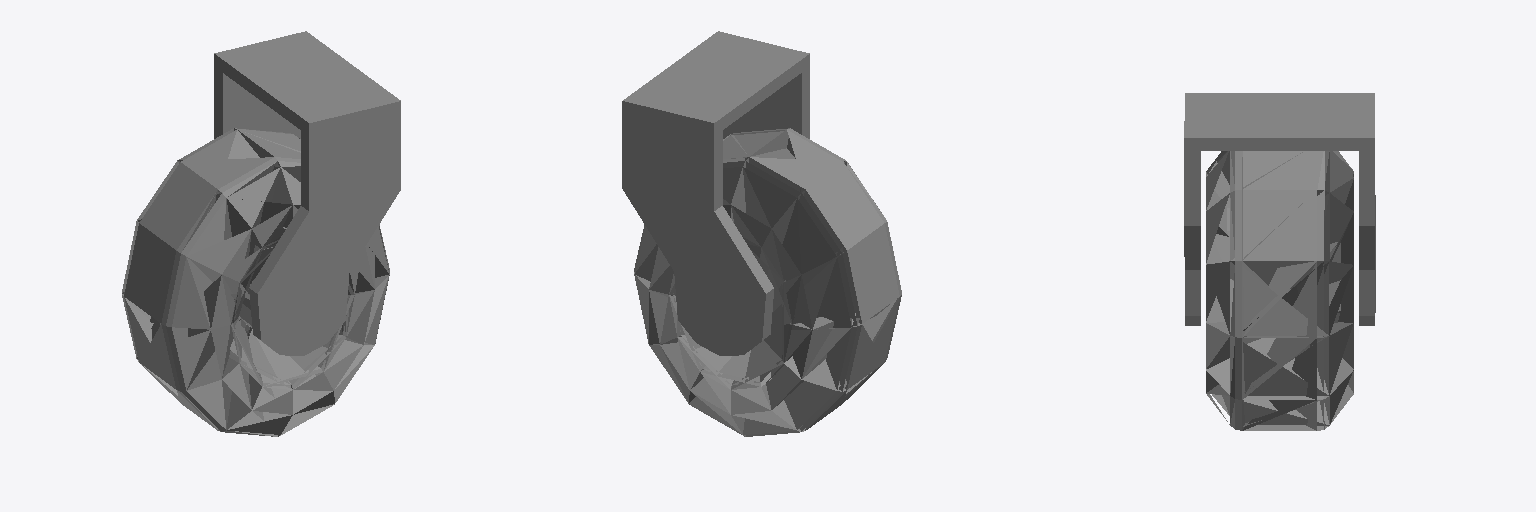
The model's file is llanta3.obj.
The picture shows the model from 3 angles: view 1: azimuth 30°, elevation 25°; view 2: azimuth 150°, elevation 25°; view 3: azimuth 270°, elevation 25°; orthographic projection.
Visible parts, largest first — view 1: Cylinder04, Box005; view 2: Cylinder04, Box005; view 3: Cylinder04, Box005.
Part boxes in pixels (x1,y1,x2,y2): Cylinder04: (122, 128, 389, 436); Box005: (214, 31, 400, 355); Cylinder04: (634, 128, 901, 436); Box005: (622, 31, 809, 355); Cylinder04: (1206, 151, 1353, 430); Box005: (1184, 93, 1375, 325).
Bounding box in the file's own units: 3.06 × 4.29 × 2.24.